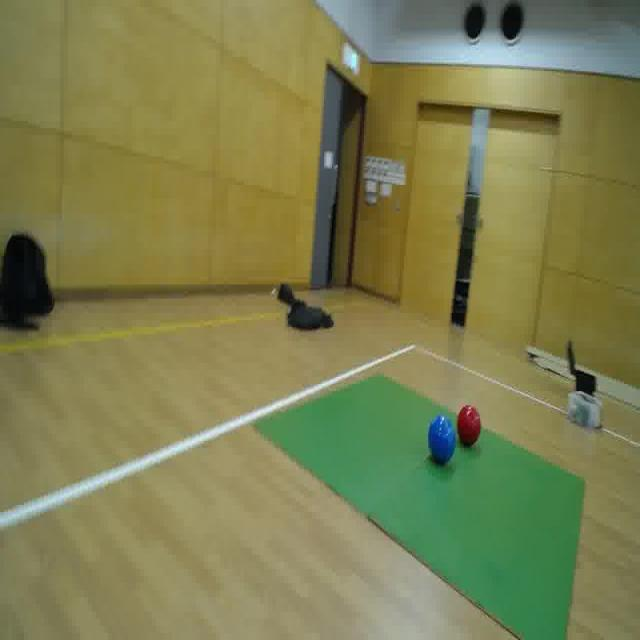blue_ball: (428, 414, 458, 467)
red_ball: (455, 405, 485, 448)
